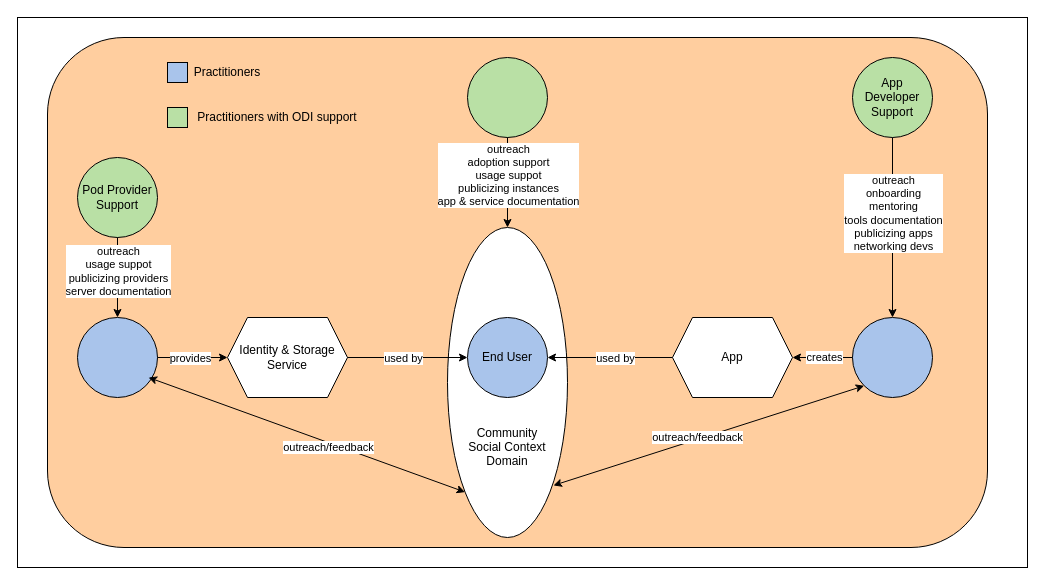
This 1045x585 diagram has some shape labels left out. The shapes that lost their labels are listed below. From the top down, each one's centre as x and y in pixels, then its label:
At point (507, 97): "End User Support".
At point (117, 357): "Identity & Storage Provider".
At point (892, 357): "App Developer".
